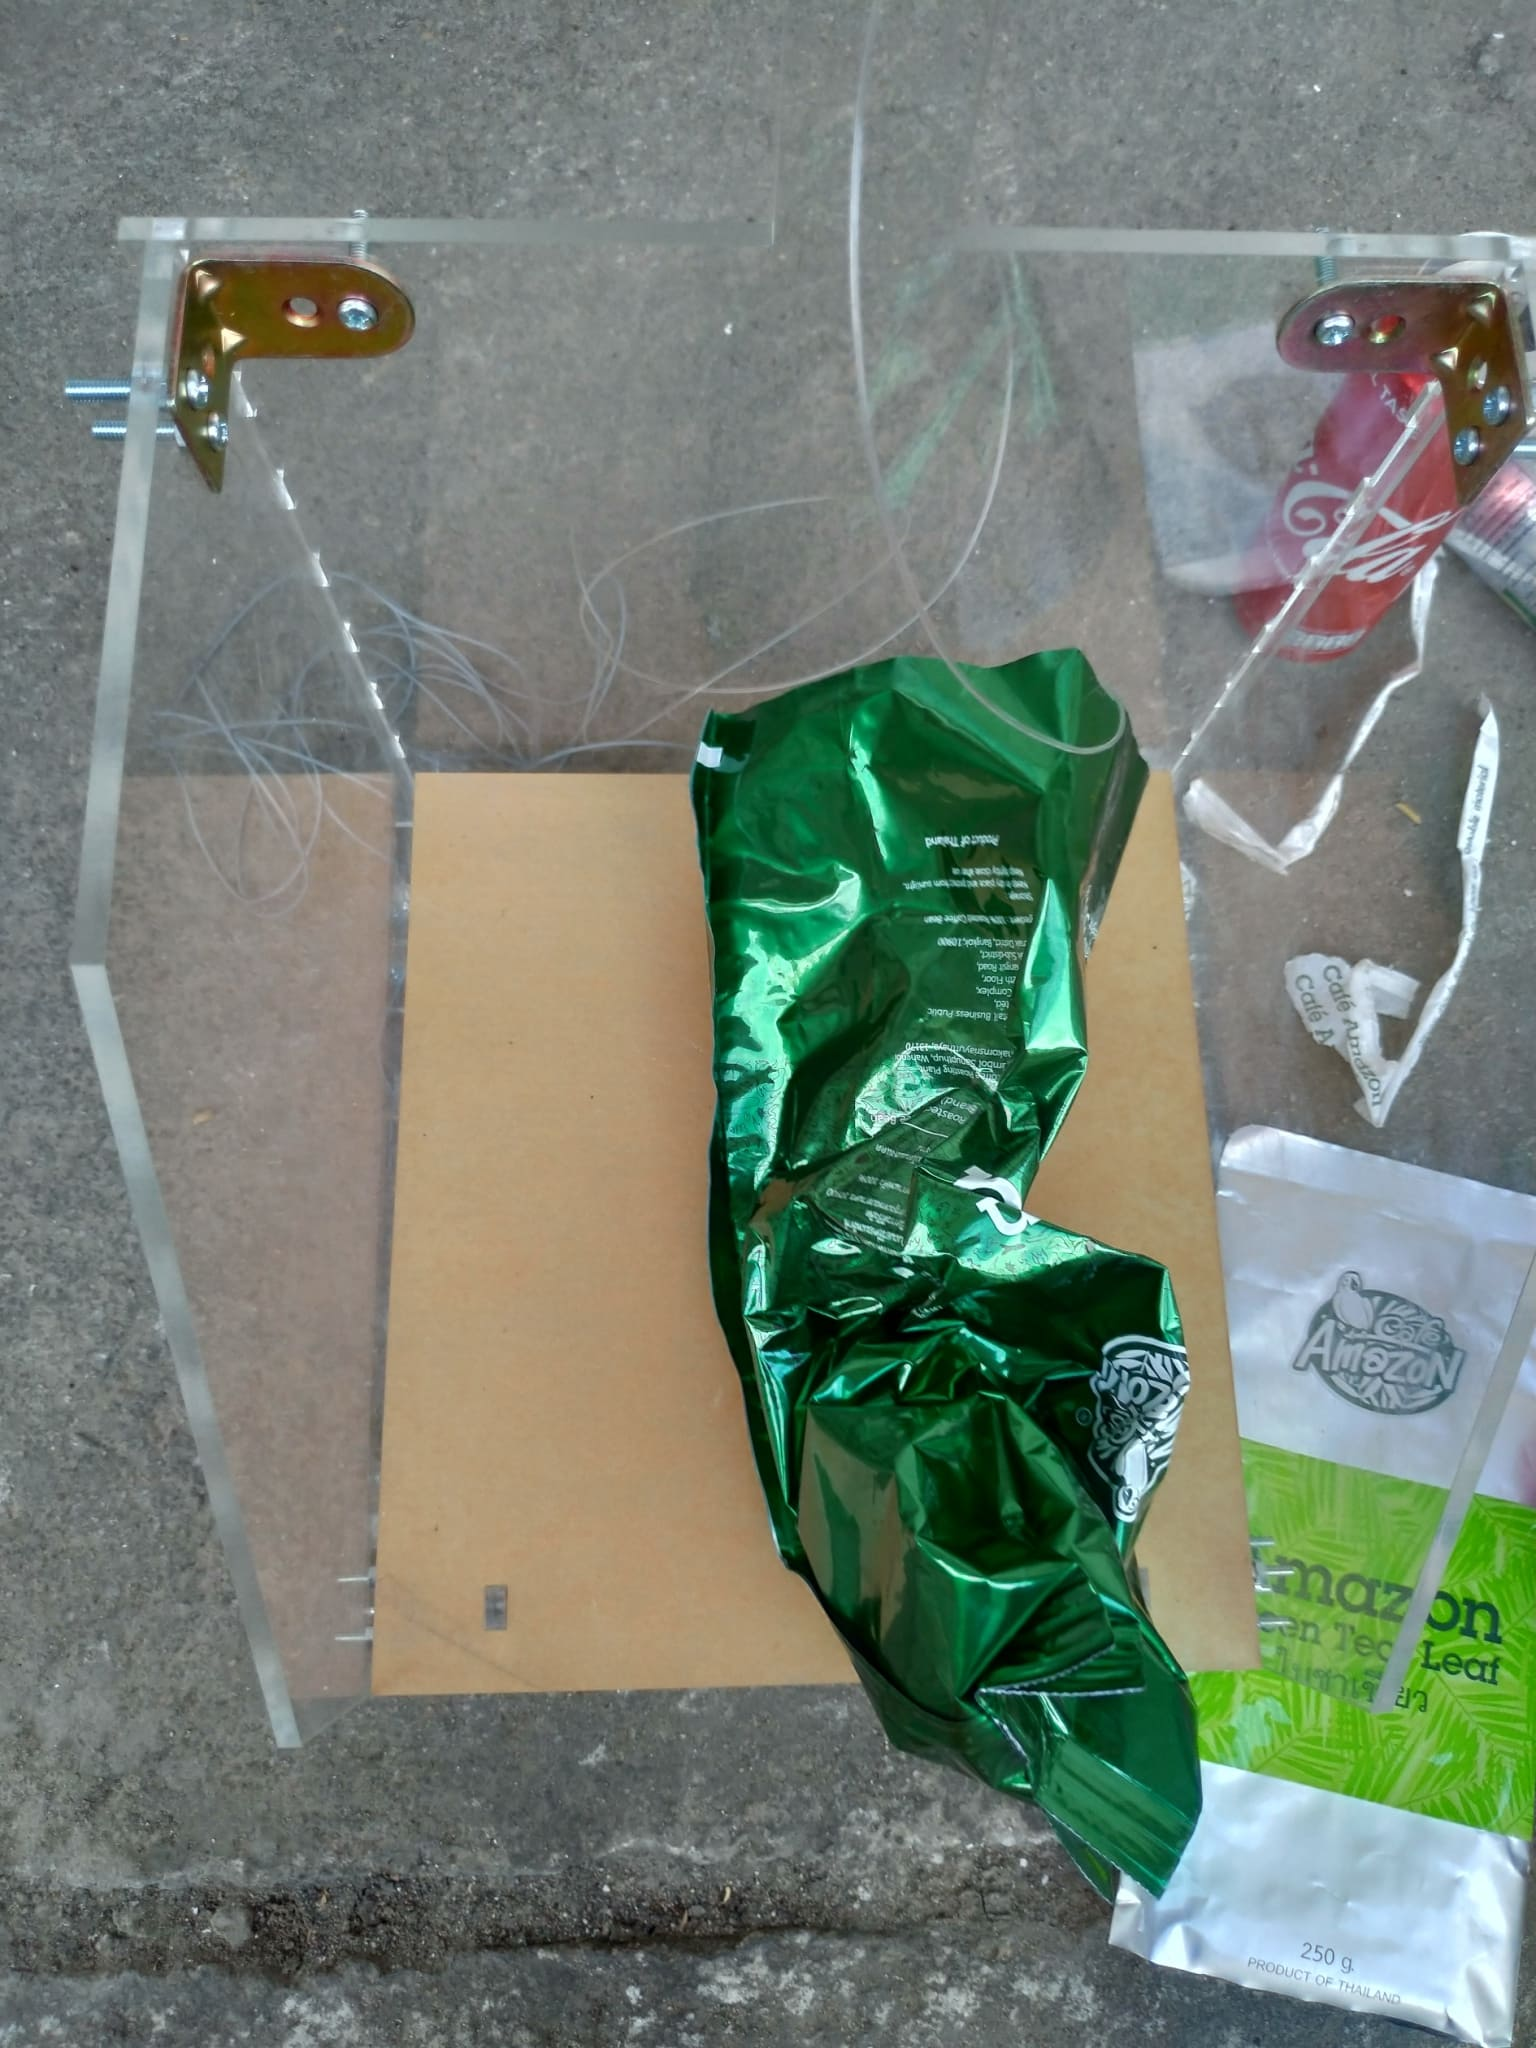AlCan: (1234, 256, 1536, 689)
Others: (707, 645, 1213, 1888), (1100, 1118, 1521, 2038)
